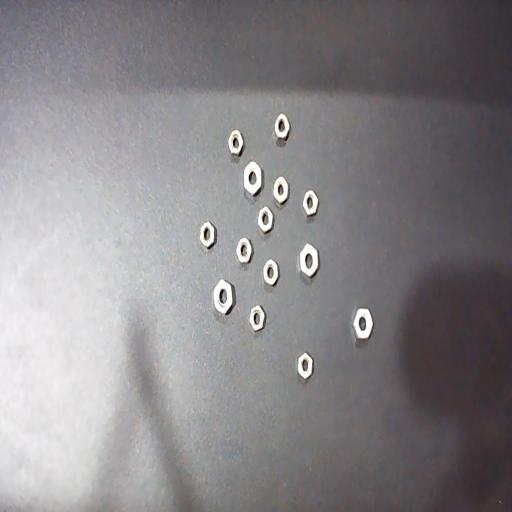nut: (243, 161, 264, 198), (214, 279, 235, 316), (300, 242, 320, 280), (352, 308, 374, 342), (200, 221, 217, 250), (257, 205, 274, 234), (297, 352, 314, 381), (273, 177, 290, 205), (249, 305, 266, 333), (227, 130, 244, 157), (236, 237, 253, 264), (263, 259, 280, 286), (274, 114, 290, 141), (303, 190, 319, 217)
